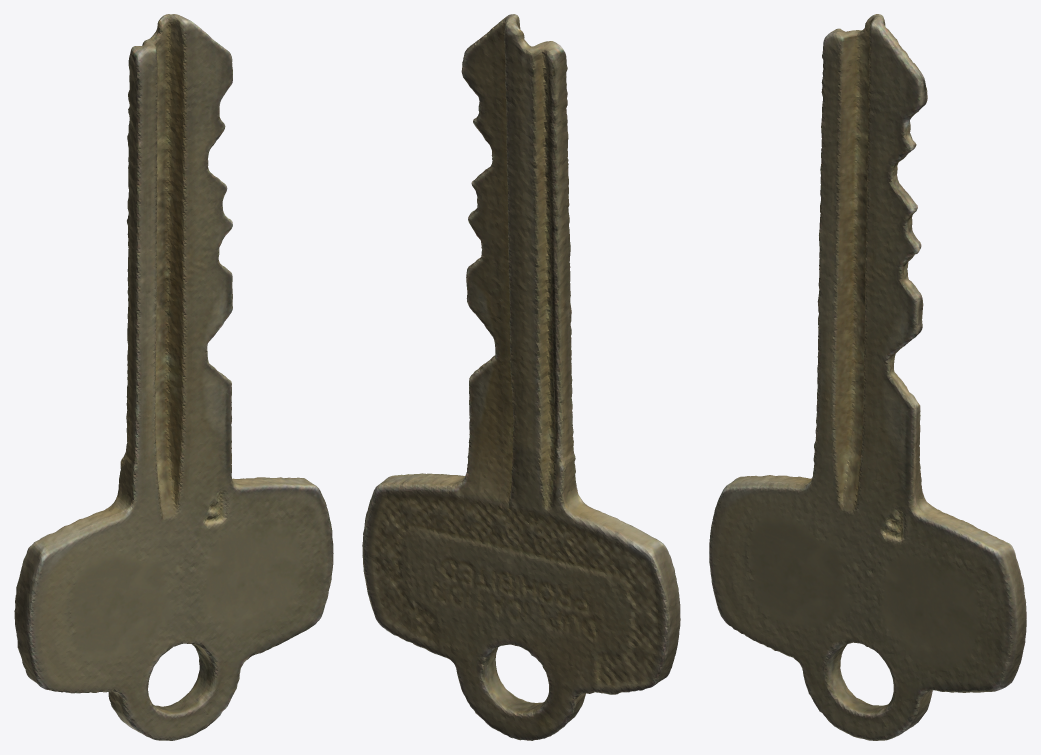
File: key color scan mm.obj
The picture shows the model from 3 angles, left to right: view 1: azimuth 30°, elevation 25°; view 2: azimuth 150°, elevation 25°; view 3: azimuth 330°, elevation 25°; orthographic projection.
Bounding box in the file's own units: 25.67 × 57.12 × 2.83.
Materials: 1 (1 with a texture image).
